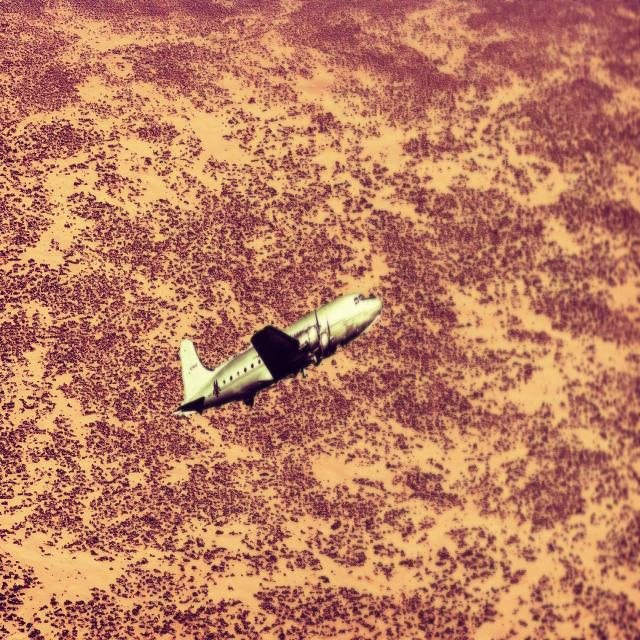airplane: (172, 290, 382, 416)
